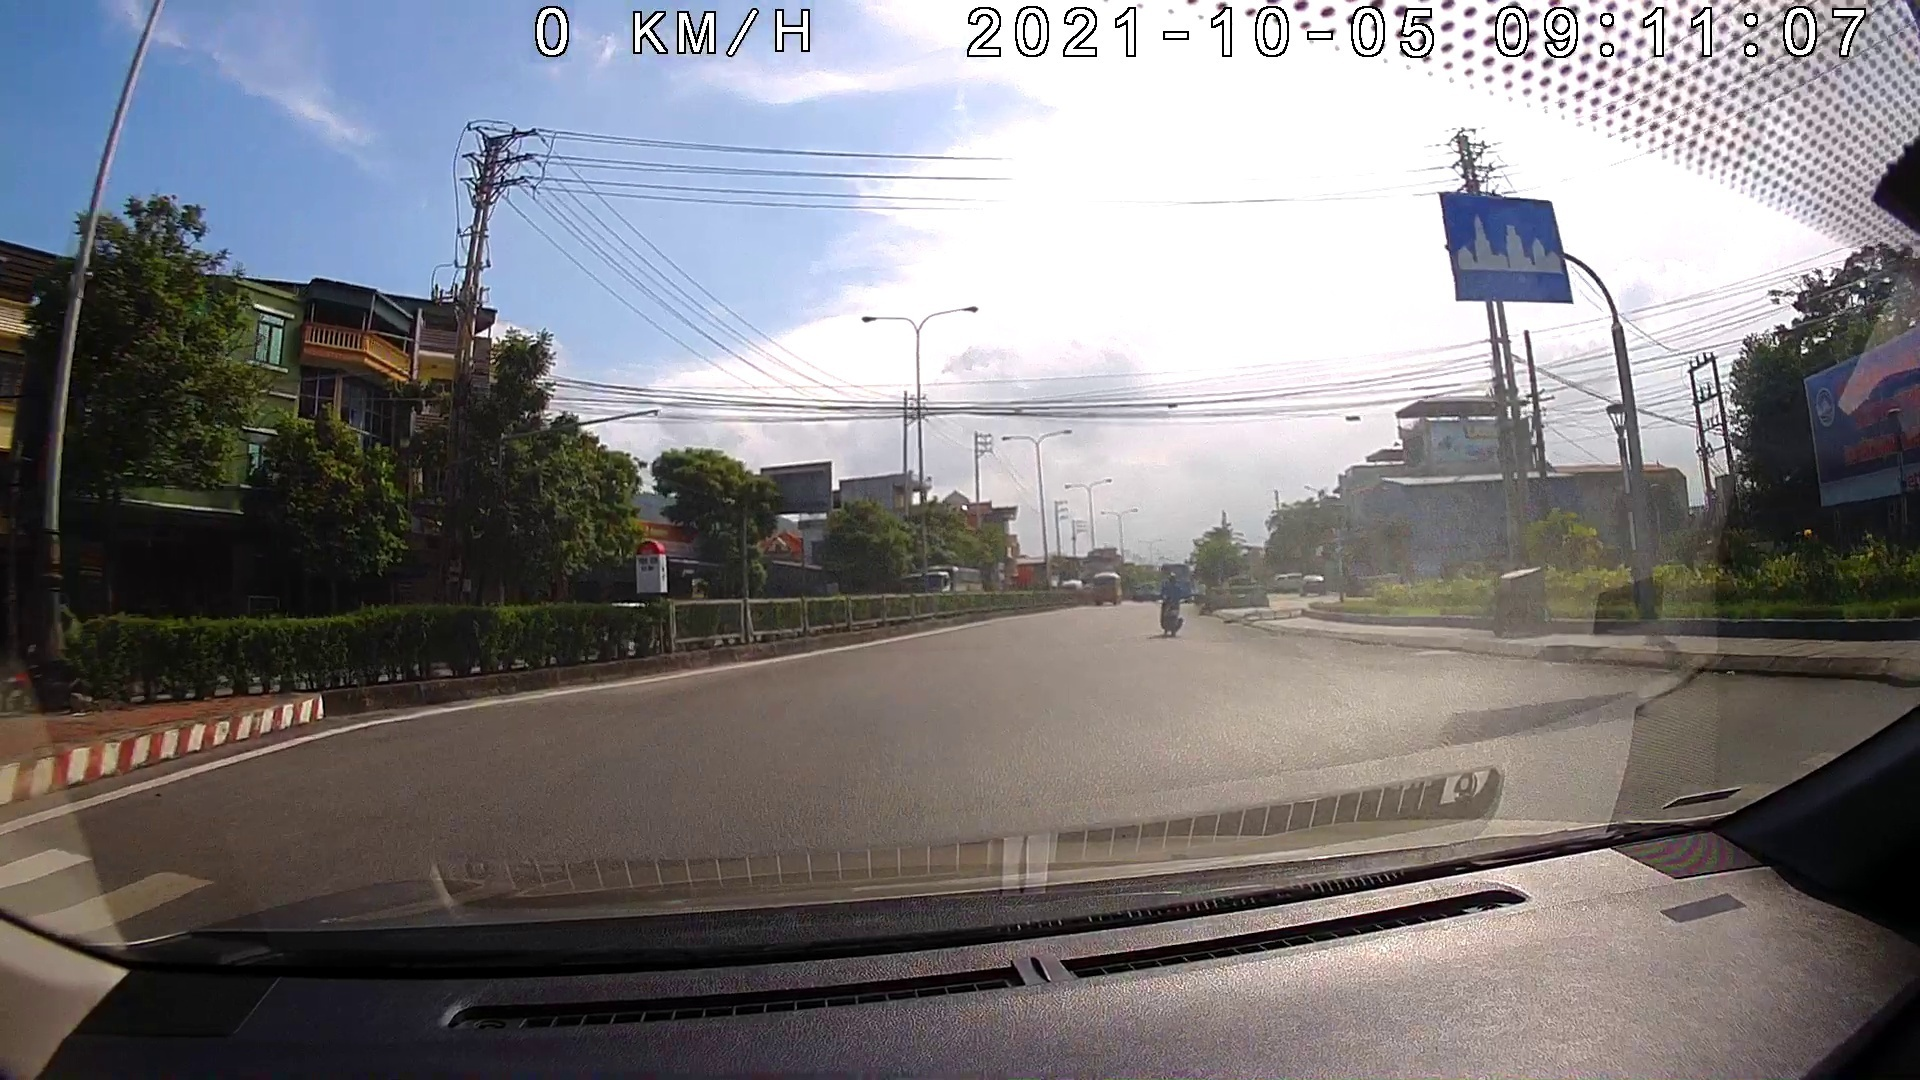Bien khac: (1439, 190, 1575, 309)
